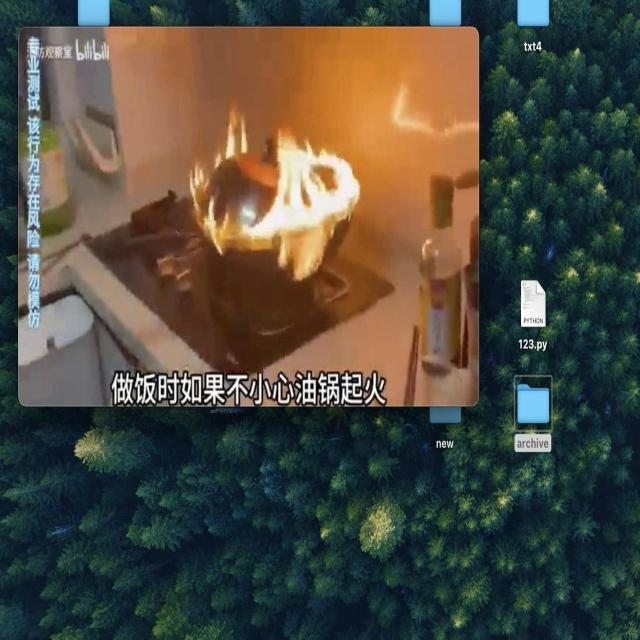smoke: (182, 113, 358, 288)
